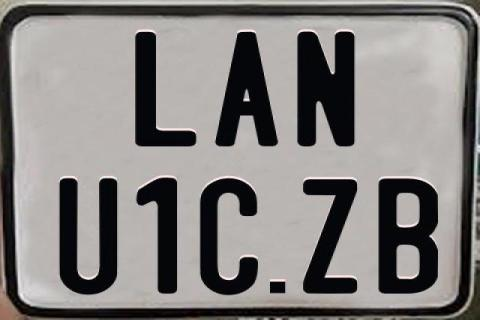0: (134, 175, 178, 292)
A: (212, 30, 278, 148)
B: (375, 178, 436, 296)
C: (199, 177, 263, 295)
L: (132, 32, 196, 149)
N: (297, 29, 360, 149)
U: (56, 178, 120, 296)
Z: (303, 180, 357, 294)
